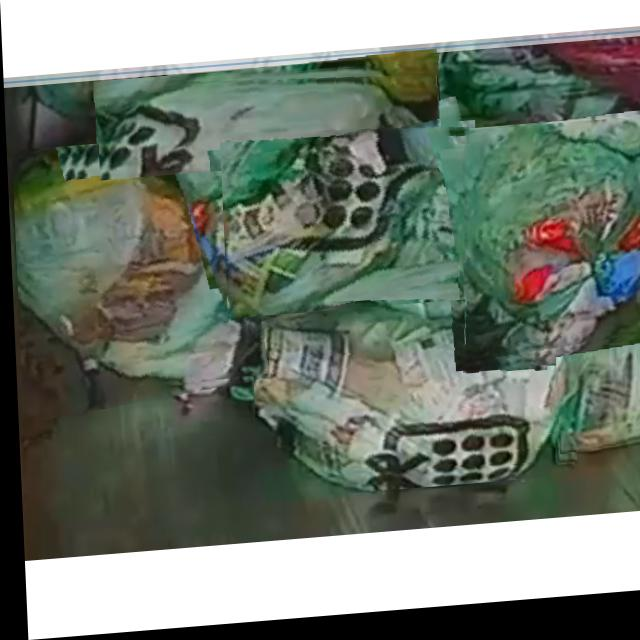general_trashbag: (249, 303, 567, 497), (12, 145, 253, 388), (224, 132, 480, 320), (461, 134, 640, 356), (99, 82, 441, 180), (556, 303, 640, 460)
